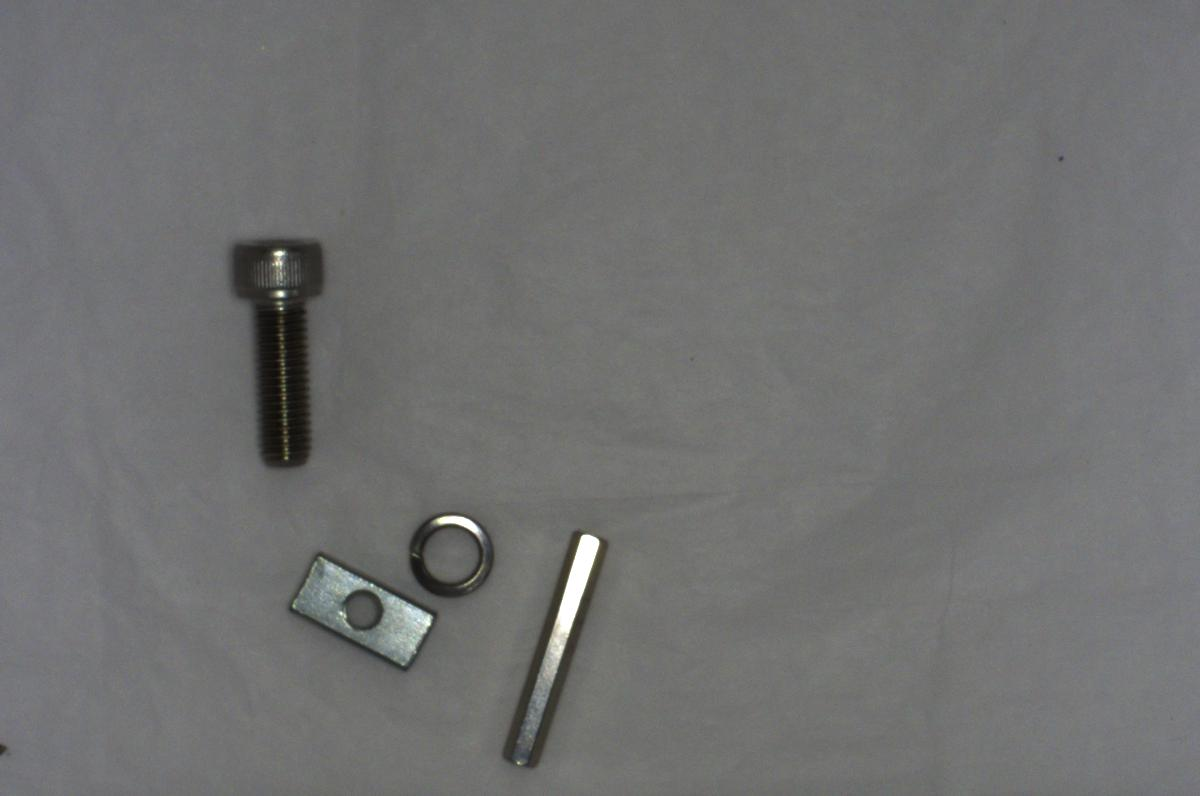Double hexagonal column: (498, 513, 614, 780)
Hexagon screw: (221, 226, 332, 473)
Rectangular nut: (278, 548, 445, 675)
Spring washer: (397, 507, 499, 596)
